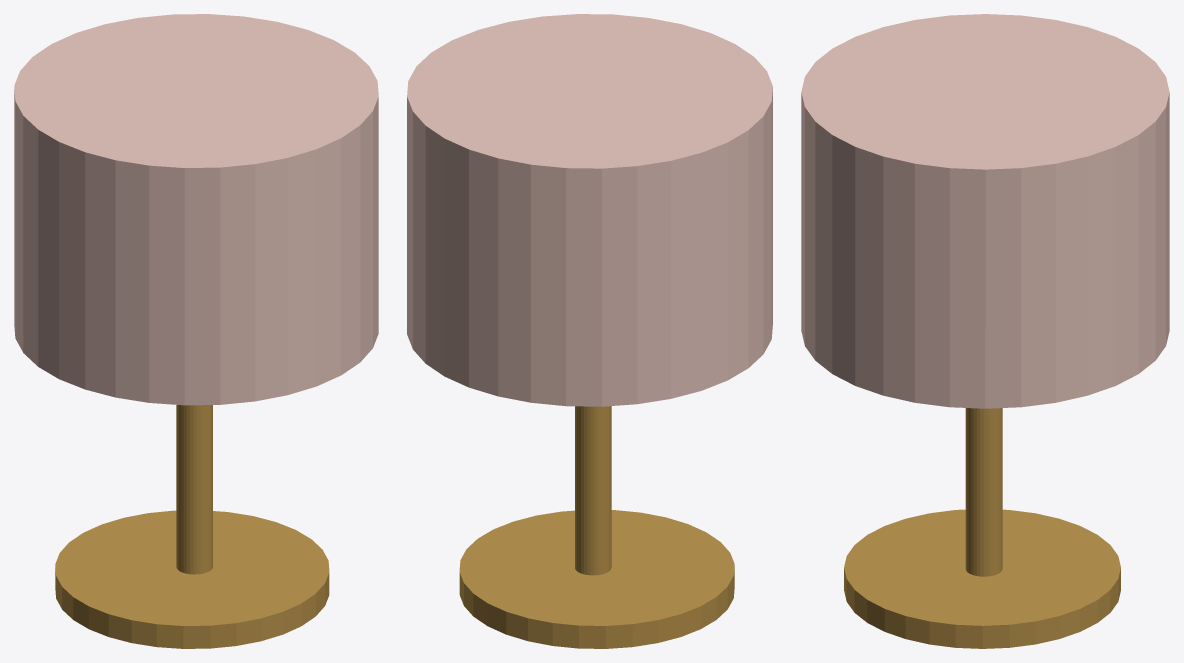
Rendered from Desk_Lamp.fbx.
The picture shows the model from 3 angles, left to right: view 1: azimuth 30°, elevation 25°; view 2: azimuth 150°, elevation 25°; view 3: azimuth 270°, elevation 25°; orthographic projection.
Visible parts, largest first — view 1: Desk Lamp; view 2: Desk Lamp; view 3: Desk Lamp.
Boxes of the visible parts, x1,y1,x2,y2 form: Desk Lamp: [14, 14, 378, 648]; Desk Lamp: [407, 14, 772, 648]; Desk Lamp: [801, 14, 1169, 648].
Size of the model in its own units: 43.02 by 64.63 by 43.02.
